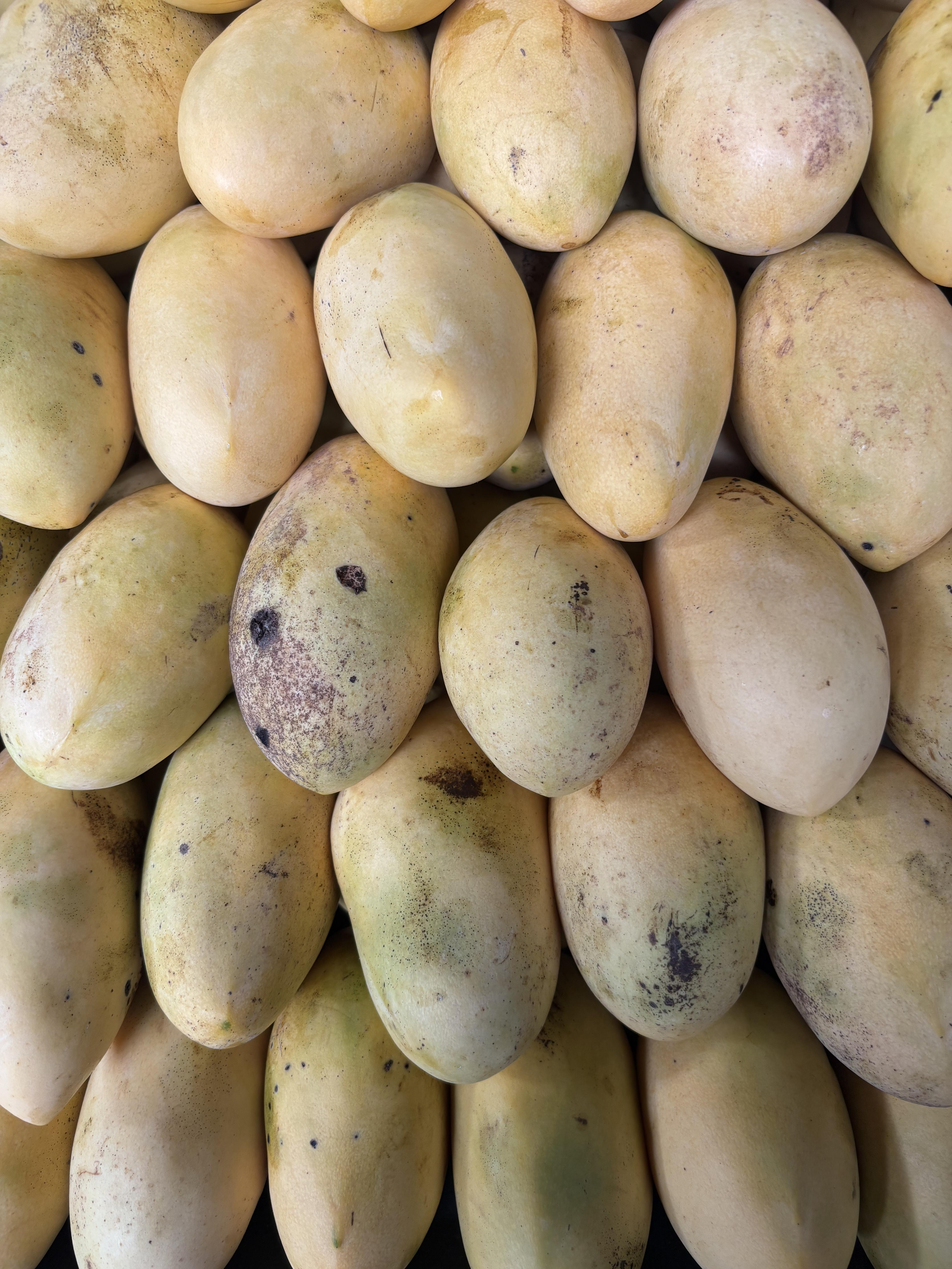mango: (314, 183, 536, 487), (439, 497, 652, 798)
occluded: (331, 698, 560, 1083), (643, 477, 890, 815), (230, 433, 458, 794), (0, 484, 248, 790), (731, 233, 952, 572), (549, 694, 765, 1040), (141, 696, 338, 1048), (765, 749, 952, 1107), (535, 211, 736, 543), (638, 969, 859, 1269), (452, 950, 652, 1269), (264, 930, 449, 1269), (178, 0, 435, 238), (128, 205, 326, 506), (639, 0, 872, 255), (0, 0, 221, 257), (70, 983, 268, 1269), (0, 751, 149, 1125), (431, 0, 636, 251), (0, 241, 134, 529), (862, 0, 952, 286), (833, 1058, 952, 1269), (868, 531, 952, 794), (0, 1084, 85, 1269), (0, 516, 69, 658), (87, 458, 166, 522), (831, 0, 908, 62), (488, 423, 552, 490), (341, 0, 453, 32), (574, 0, 657, 22), (168, 0, 256, 13)
